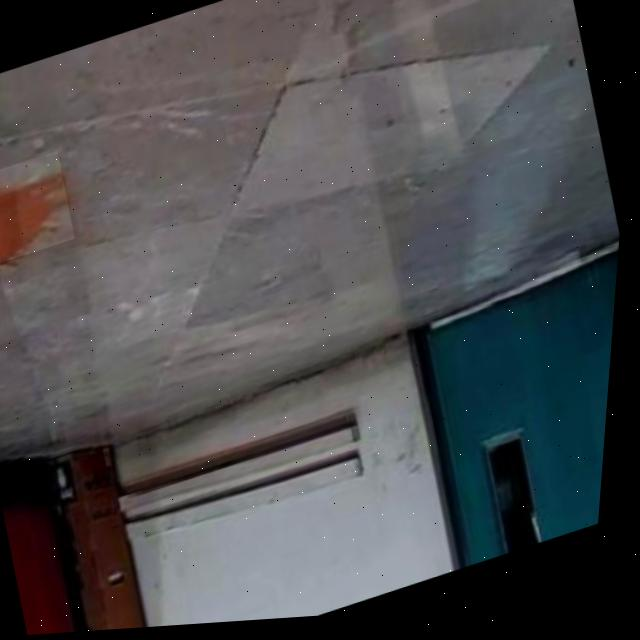spillage: (0, 174, 70, 263)
